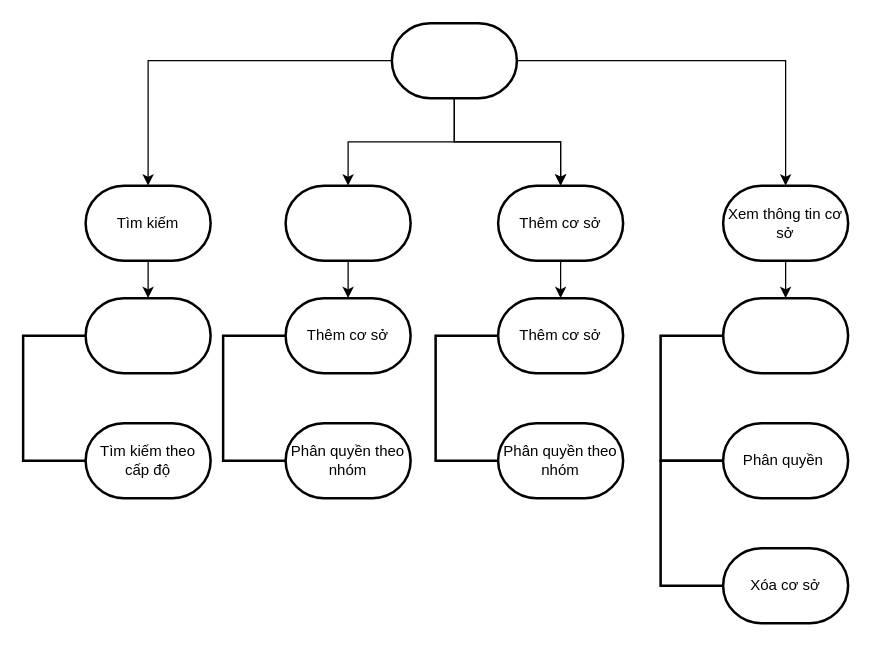
Image size: 870x645. Some labels were removed from this diagram. The box of each missing label's shape, as (x1, y1, x2, y2) in pixels:
Chỉnh sửa thông tin: (721, 296, 849, 374)
Cơ sở hành chính: (390, 21, 518, 99)
Phân quyền theo nhóm cơ sở: (284, 184, 411, 261)
Tìm kiếm theo tên: (84, 296, 211, 374)
